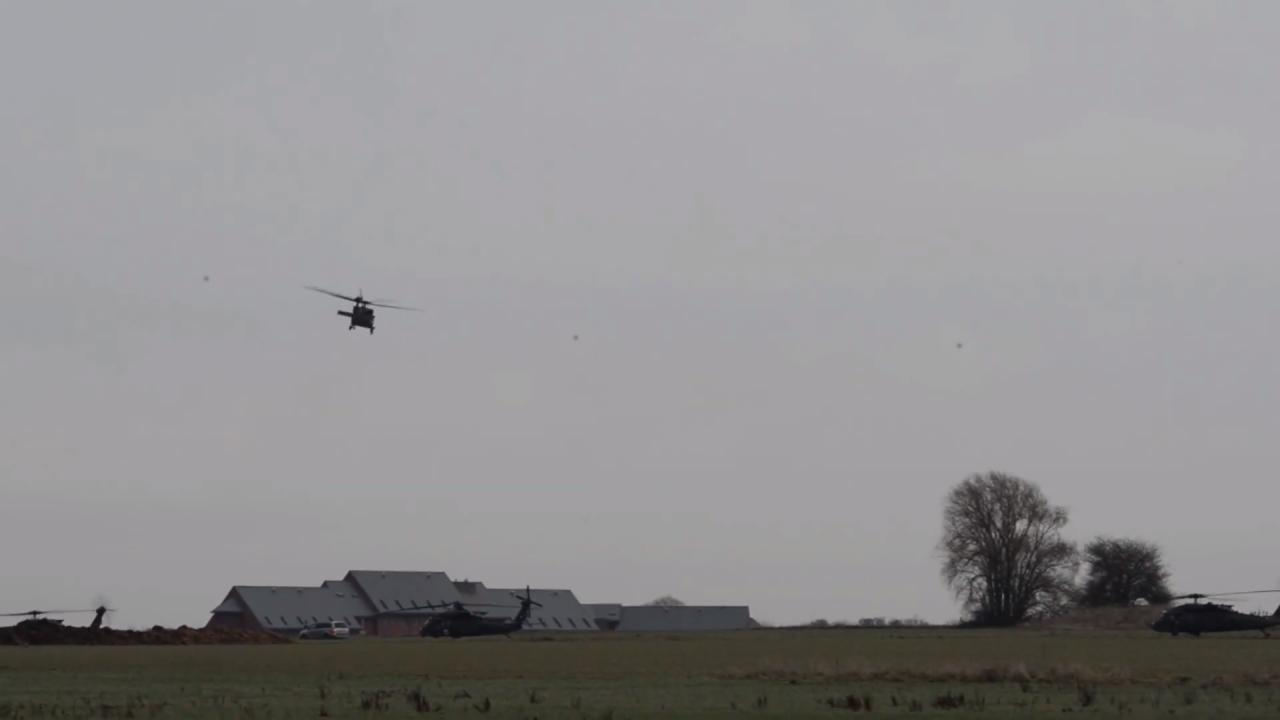Helicopter: (286, 263, 437, 359)
